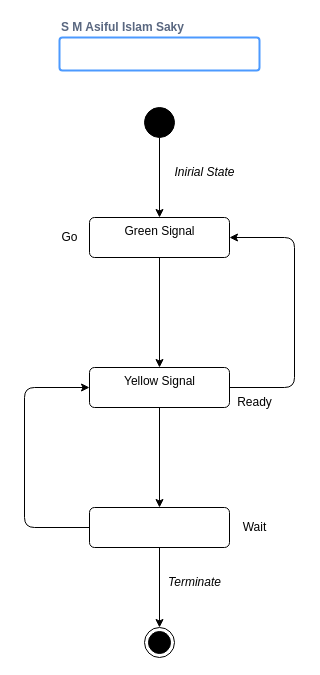
Image size: 320x675. Some labels were removed from this diagram. Each missing label, with the centre of its shape:
"Red Signal" goes at (159,527).
"Traffic Light Control System" goes at (159,53).
